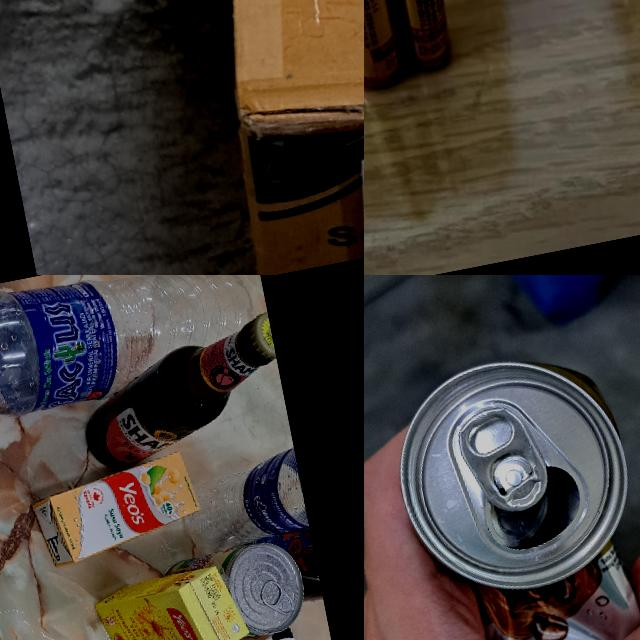aba de lata: (456, 400, 554, 520), (255, 574, 299, 626)
bateria: (364, 0, 472, 81)
caixinha: (27, 452, 208, 564), (92, 560, 251, 640)
garrafa de vidro: (79, 316, 291, 472), (264, 524, 322, 606)
garrafa plástica: (0, 275, 265, 423), (202, 448, 310, 547)
lata: (380, 341, 640, 640), (175, 531, 313, 640)
papelão: (141, 0, 364, 275)
